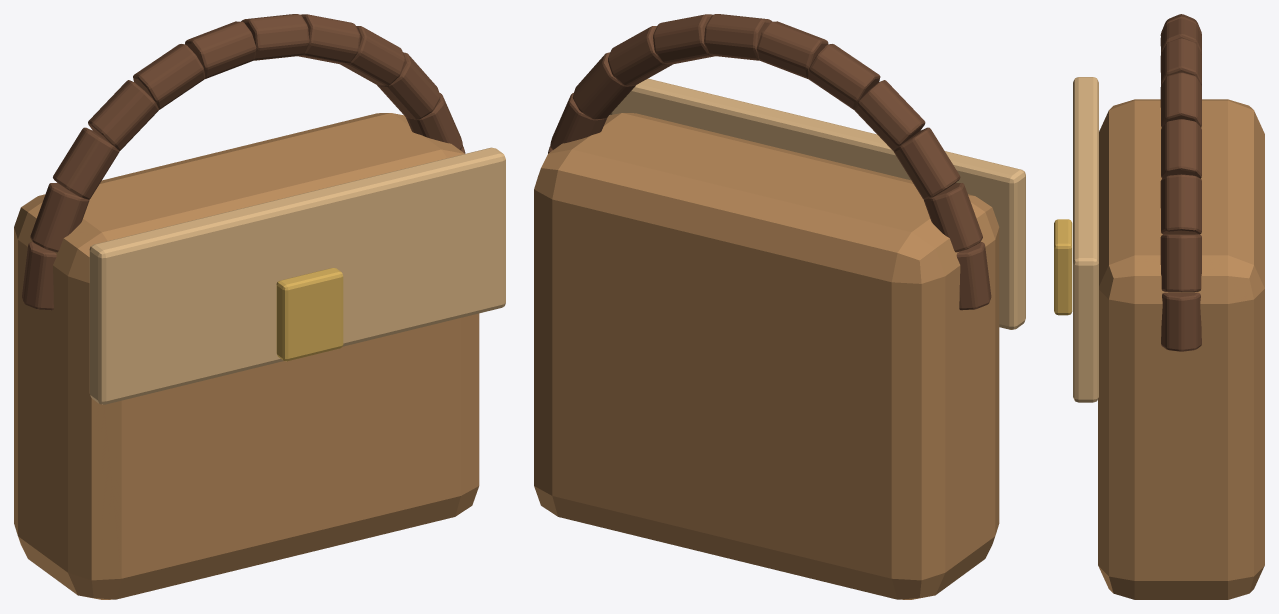
File: P034_adventure_satchel.glb
3 renders of one model, left to right at view 1: azimuth 30°, elevation 25°; view 2: azimuth 150°, elevation 25°; view 3: azimuth 270°, elevation 25°, orthographic. The views are drawn at different scales.
Parts seen in each view (by area): view 1: P034_bag_001, P034_flap_002, P034_buckle_003, P034_strap_012, P034_strap_013, P034_strap_011, P034_strap_010, P034_strap_014, P034_strap_009, P034_strap_008, P034_strap_007, P034_strap_006 (+2 smaller); view 2: P034_bag_001, P034_flap_002, P034_strap_012, P034_strap_013, P034_strap_011, P034_strap_010, P034_strap_014, P034_strap_009, P034_strap_008, P034_strap_007, P034_strap_006, P034_strap_015 (+1 smaller); view 3: P034_bag_001, P034_flap_002, P034_strap_006, P034_strap_005, P034_strap_004, P034_strap_007, P034_strap_008, P034_buckle_003, P034_strap_009, P034_strap_010.
Part boxes in pixels (bbox=[...]): P034_bag_001: bbox=[14, 113, 479, 599]; P034_flap_002: bbox=[89, 147, 505, 404]; P034_buckle_003: bbox=[276, 268, 343, 361]; P034_strap_012: bbox=[88, 80, 158, 150]; P034_strap_013: bbox=[53, 127, 119, 199]; P034_strap_011: bbox=[133, 44, 205, 109]; P034_strap_010: bbox=[185, 21, 256, 78]; P034_strap_014: bbox=[30, 183, 89, 252]; P034_strap_009: bbox=[241, 14, 309, 60]; P034_strap_008: bbox=[298, 14, 360, 64]; P034_strap_007: bbox=[340, 26, 405, 85]; P034_strap_006: bbox=[377, 52, 440, 119]; P034_bag_001: bbox=[534, 113, 999, 599]; P034_flap_002: bbox=[610, 78, 1025, 329]; P034_strap_012: bbox=[854, 80, 925, 150]; P034_strap_013: bbox=[893, 127, 960, 199]; P034_strap_011: bbox=[808, 44, 880, 109]; P034_strap_010: bbox=[756, 21, 828, 79]; P034_strap_014: bbox=[924, 183, 982, 252]; P034_strap_009: bbox=[704, 14, 771, 60]; P034_strap_008: bbox=[653, 14, 715, 64]; P034_strap_007: bbox=[608, 26, 672, 85]; P034_strap_006: bbox=[572, 52, 635, 119]; P034_strap_015: bbox=[956, 242, 991, 310]; P034_bag_001: bbox=[1098, 99, 1264, 599]; P034_flap_002: bbox=[1073, 77, 1098, 402]; P034_strap_006: bbox=[1160, 174, 1201, 234]; P034_strap_005: bbox=[1160, 234, 1201, 292]; P034_strap_004: bbox=[1161, 292, 1201, 351]; P034_strap_007: bbox=[1161, 119, 1201, 178]; P034_strap_008: bbox=[1160, 72, 1201, 127]; P034_buckle_003: bbox=[1054, 219, 1072, 315]; P034_strap_009: bbox=[1160, 38, 1201, 84]; P034_strap_010: bbox=[1160, 18, 1201, 54].
Size of the model in its own units: 0.3165 by 0.3533 by 0.139.
